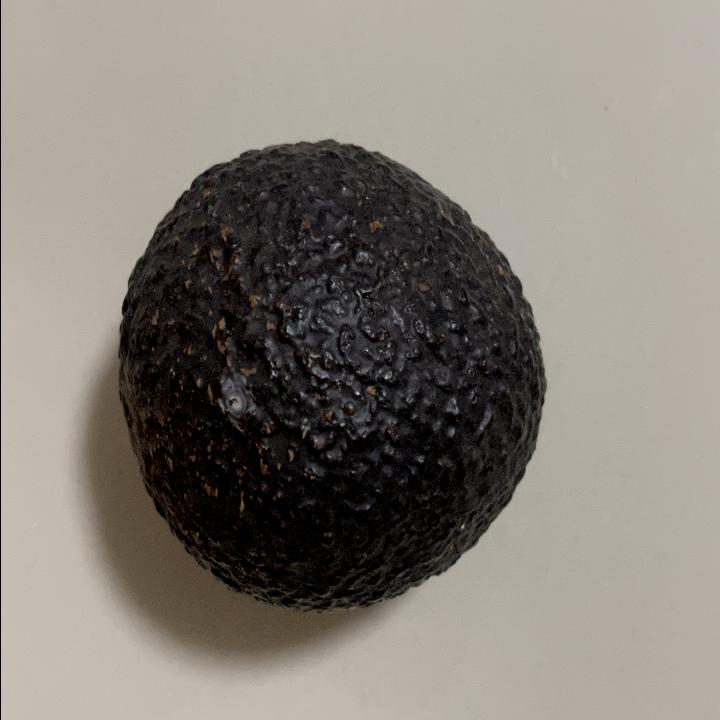Level3: (108, 129, 554, 622)
